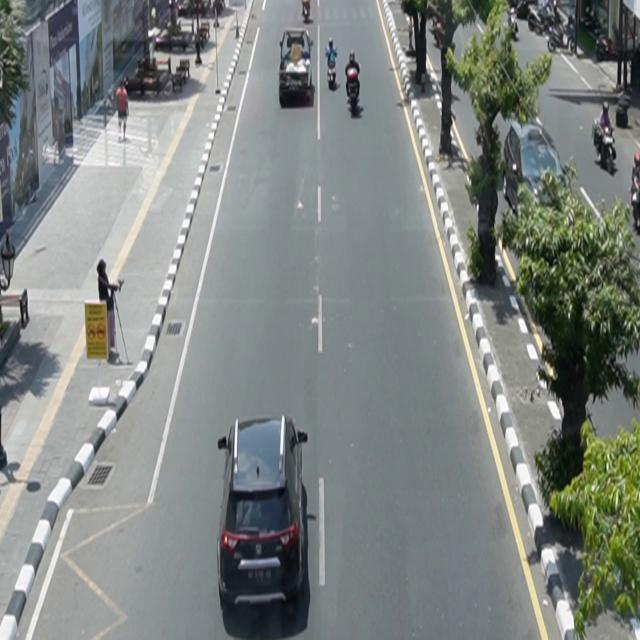car: (217, 415, 309, 610), (503, 117, 571, 221), (280, 29, 315, 107)
